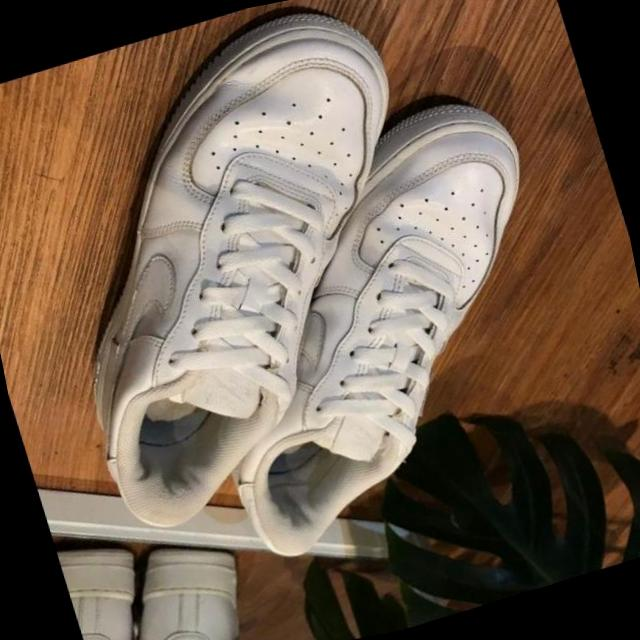nike_fake_airforce: (0, 0, 510, 559), (135, 71, 620, 571)
